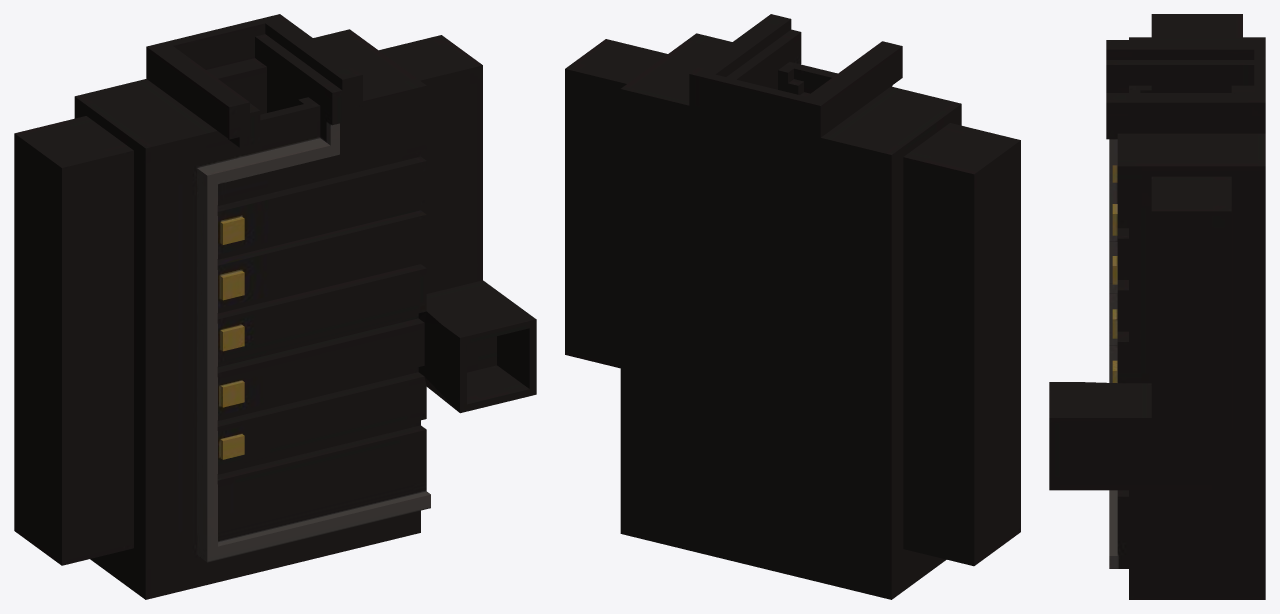
The model's file is western.glb.
3 views of the same model, side by side, from view 1: azimuth 30°, elevation 25°; view 2: azimuth 150°, elevation 25°; view 3: azimuth 270°, elevation 25° (orthographic). The views are drawn at different scales.
Visible parts, largest first — view 1: western.001; view 2: western.001; view 3: western.001.
Boxes of the visible parts, box(x1,y1,x2,y2) form: western.001: box(14, 14, 536, 599); western.001: box(565, 14, 1020, 599); western.001: box(1049, 14, 1265, 599).
Size of the model in its own units: 4.1 by 4.5 by 1.9.
1 material, 1 textured.
